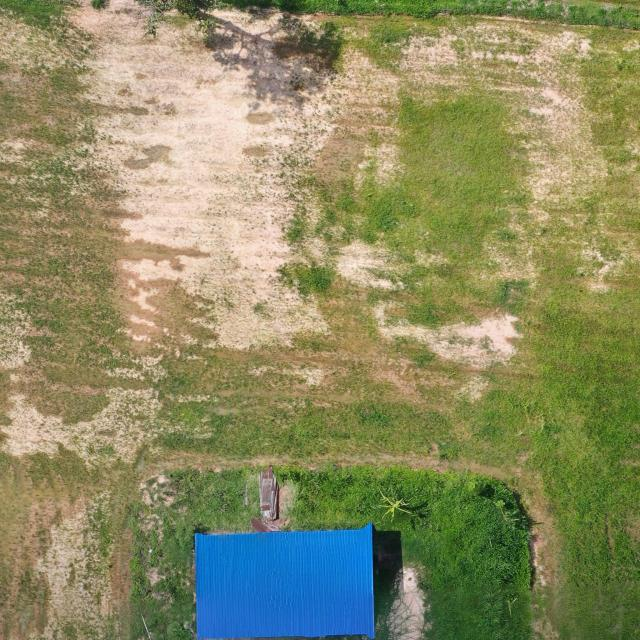banana_tree2: (372, 483, 419, 523)
